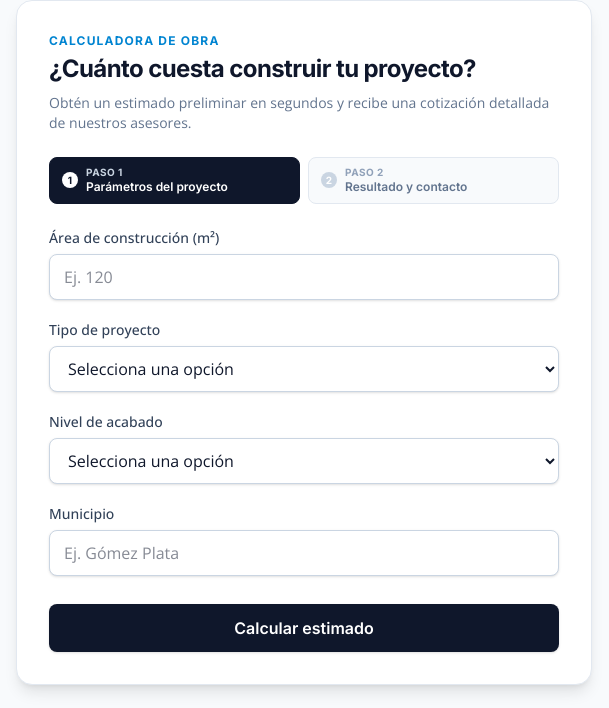
it: BudgetCalculator › muestra un error de validación cuando el área de construcción está vacía
Step 1. Click the button "Calcular estimado" → [304, 628], box [49, 604, 559, 652]
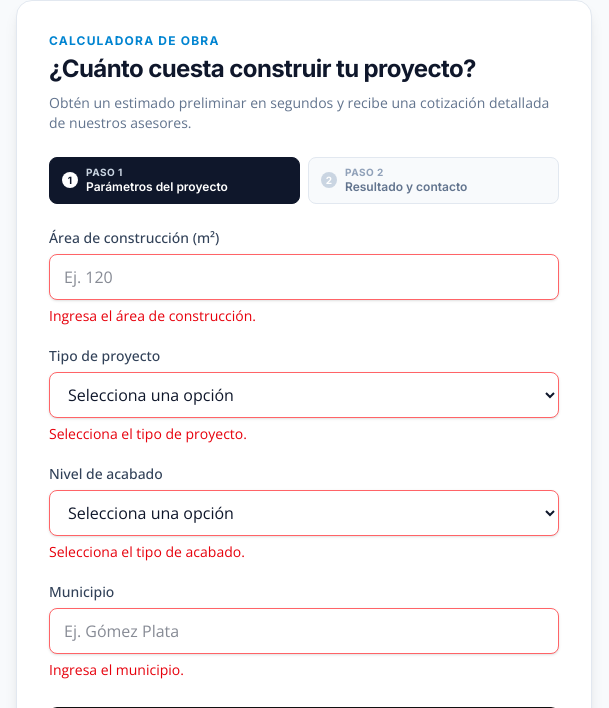
Expected: the text "Ingresa el área de construcción." is shown, [49, 306, 256, 324]
